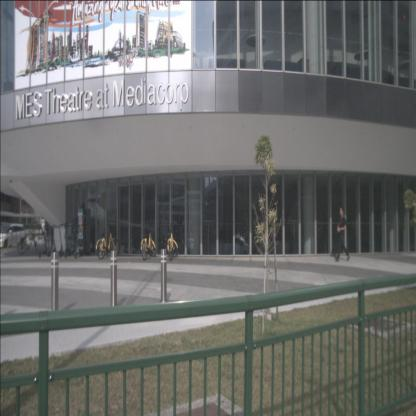human-pedestrian-adult: (335, 205, 351, 261)
vehicle-bicycle: (96, 224, 120, 259), (17, 226, 39, 254), (140, 224, 156, 261), (172, 221, 188, 255), (166, 220, 179, 261), (152, 227, 170, 255)
vehicle-car: (219, 232, 252, 258), (0, 222, 27, 250)
